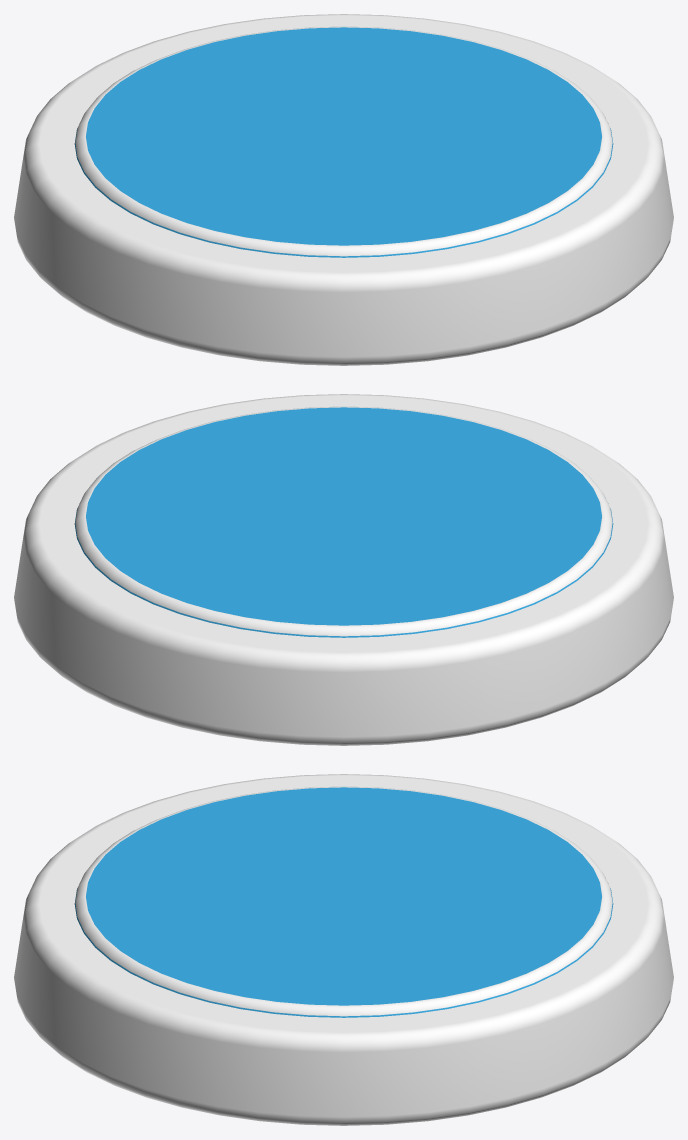
File: WM_PadNormal.fbx
3 views of the same model, one above another, from view 1: azimuth 30°, elevation 25°; view 2: azimuth 150°, elevation 25°; view 3: azimuth 270°, elevation 25° (orthographic).
Parts seen in each view (by area): view 1: WM_PadNormal; view 2: WM_PadNormal; view 3: WM_PadNormal.
Boxes of the visible parts, bbox=[...] form: WM_PadNormal: bbox=[14, 14, 673, 365]; WM_PadNormal: bbox=[14, 394, 673, 745]; WM_PadNormal: bbox=[14, 774, 673, 1125].
Bounding box in the file's own units: 1.59 × 0.26 × 1.59.
